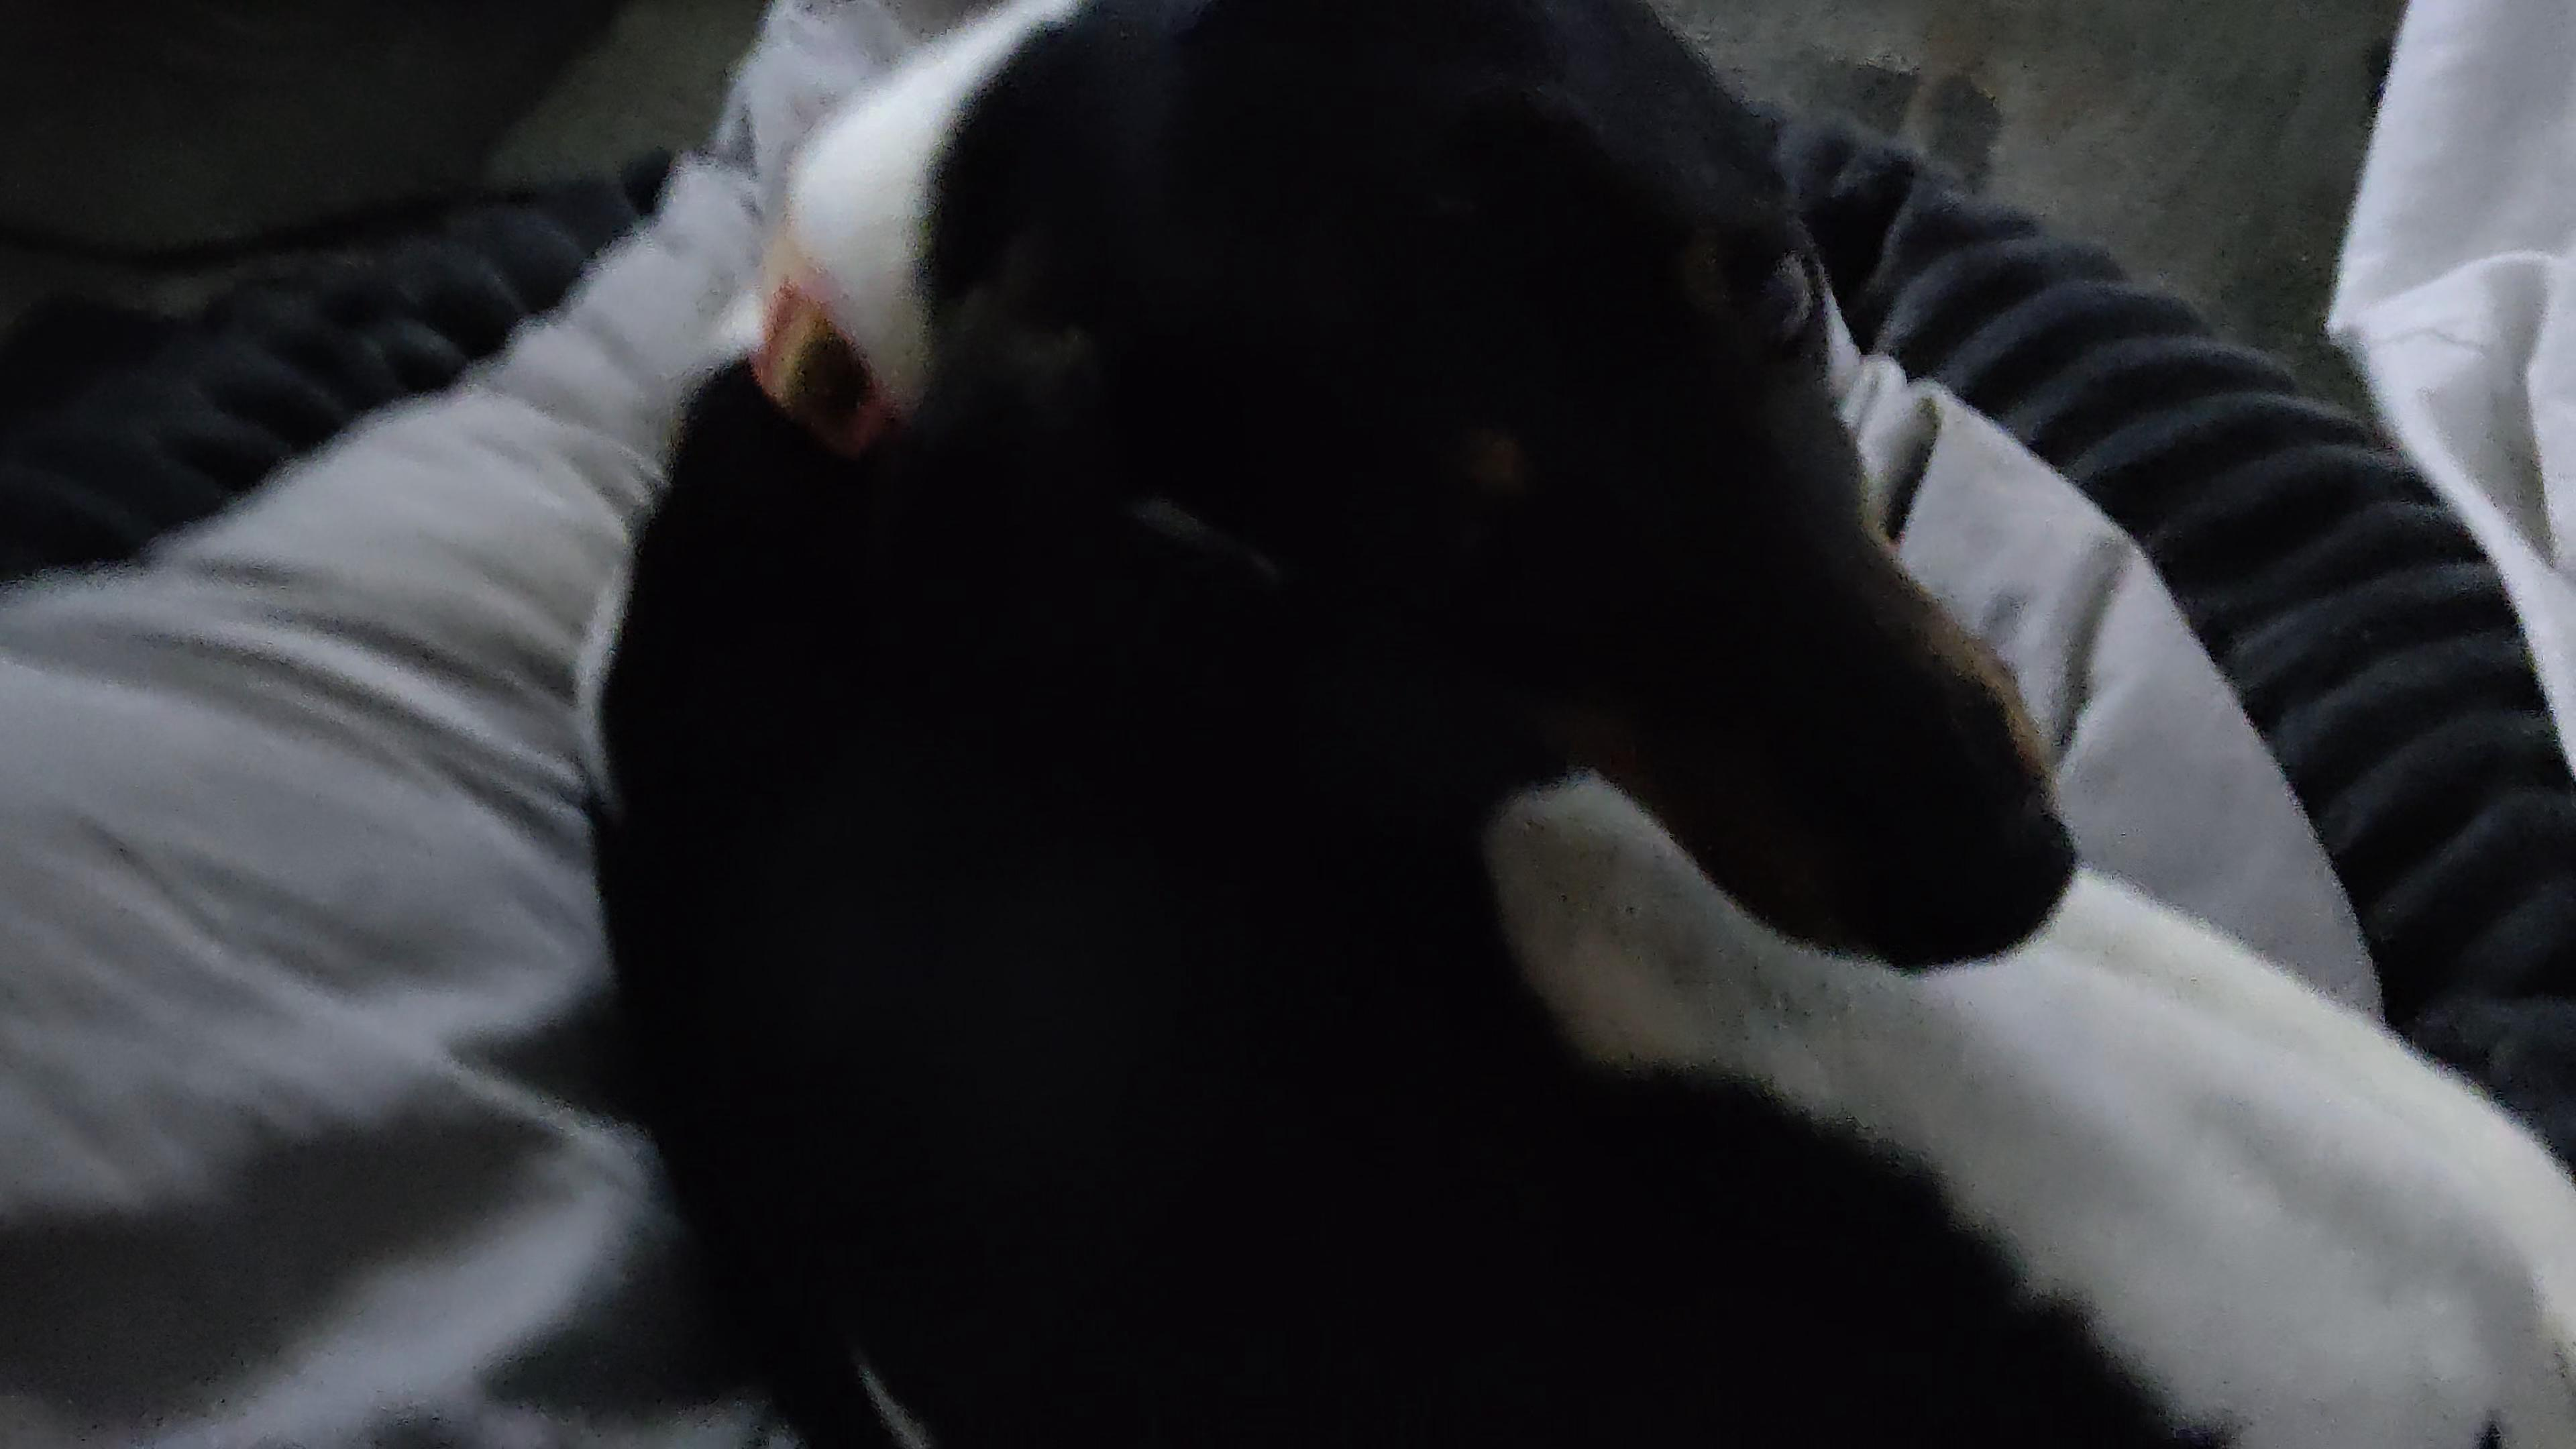Dog: (536, 0, 2576, 1449)
